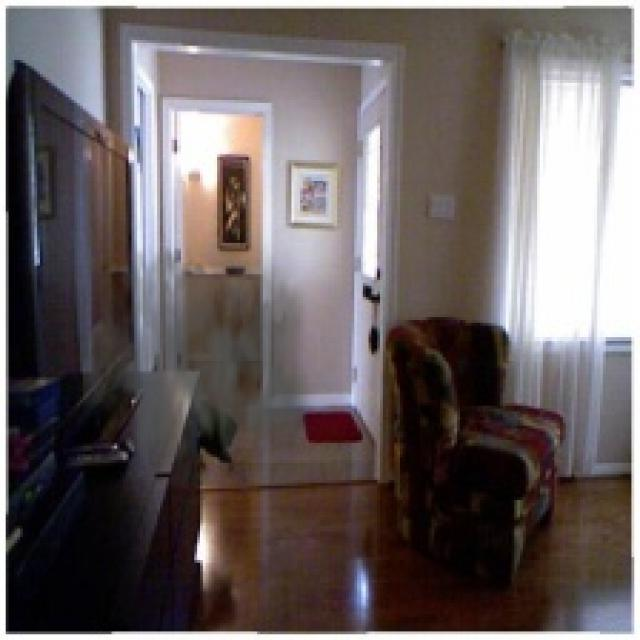Smoke: (83, 214, 323, 486)
